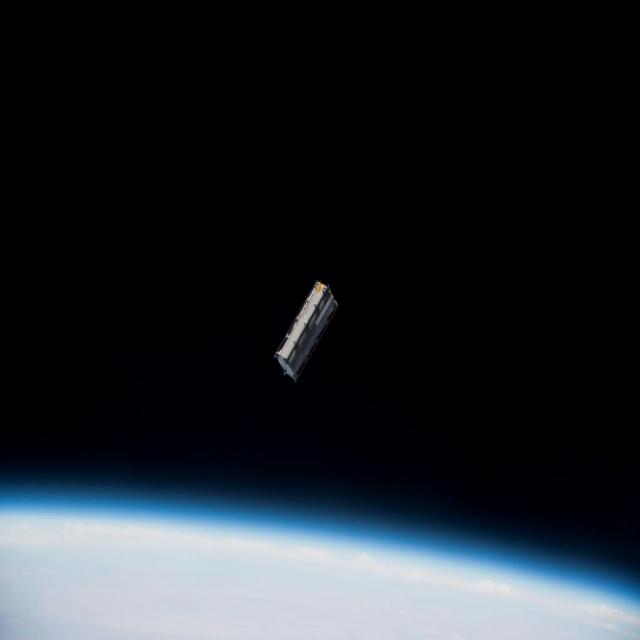satellite: (275, 282, 338, 381)
